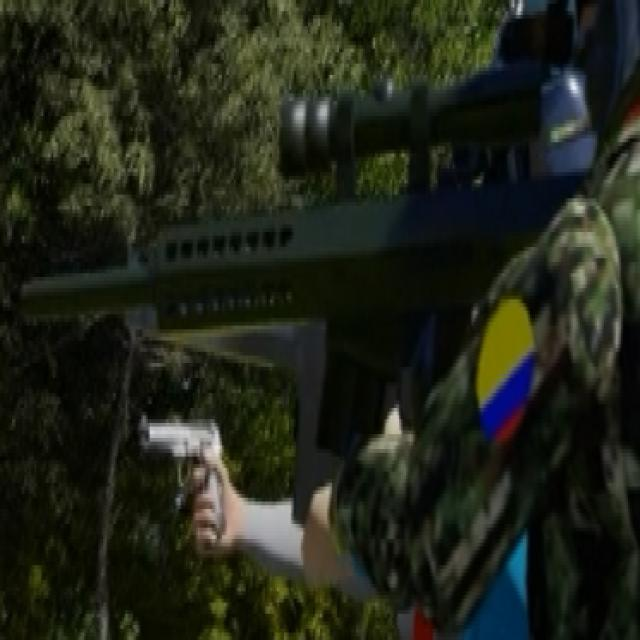Pistol: (132, 401, 226, 554)
RifleTel: (17, 42, 599, 456)
